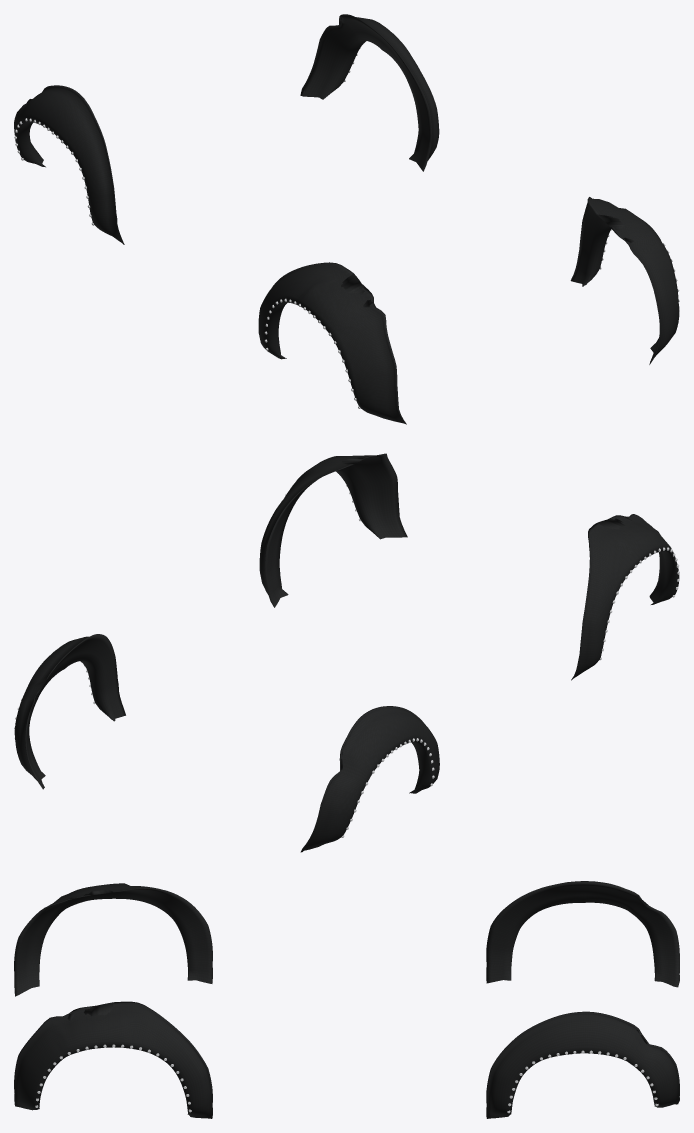
Rendered from WB02_widebody_fenders_carbon.glb.
The picture shows the model from 3 angles, top to bottom: view 1: azimuth 30°, elevation 25°; view 2: azimuth 150°, elevation 25°; view 3: azimuth 270°, elevation 25°; orthographic projection. The views are drawn at different scales.
Visible parts, largest first — view 1: MOD_NC_WB02_front_R, MOD_NC_WB02_rear_R, MOD_NC_WB02_rear_L, MOD_NC_WB02_front_L; view 2: MOD_NC_WB02_rear_R, MOD_NC_WB02_front_R, MOD_NC_WB02_front_L, MOD_NC_WB02_rear_L; view 3: MOD_NC_WB02_front_L, MOD_NC_WB02_rear_L, MOD_NC_WB02_rear_R, MOD_NC_WB02_front_R.
Part boxes in pixels (bbox=[...]): MOD_NC_WB02_front_R: bbox=[258, 262, 406, 424]; MOD_NC_WB02_rear_R: bbox=[14, 85, 124, 244]; MOD_NC_WB02_rear_L: bbox=[300, 14, 439, 171]; MOD_NC_WB02_front_L: bbox=[570, 197, 679, 364]; MOD_NC_WB02_rear_R: bbox=[300, 706, 439, 852]; MOD_NC_WB02_front_R: bbox=[571, 514, 679, 680]; MOD_NC_WB02_front_L: bbox=[259, 453, 407, 607]; MOD_NC_WB02_rear_L: bbox=[14, 634, 125, 789]; MOD_NC_WB02_front_L: bbox=[14, 1001, 212, 1118]; MOD_NC_WB02_rear_L: bbox=[486, 1011, 679, 1118]; MOD_NC_WB02_rear_R: bbox=[486, 881, 679, 987]; MOD_NC_WB02_front_R: bbox=[14, 883, 212, 996].
Size of the model in its own units: 1.85 by 0.5772 by 3.29.
Materials: 2 (1 with a texture image).
